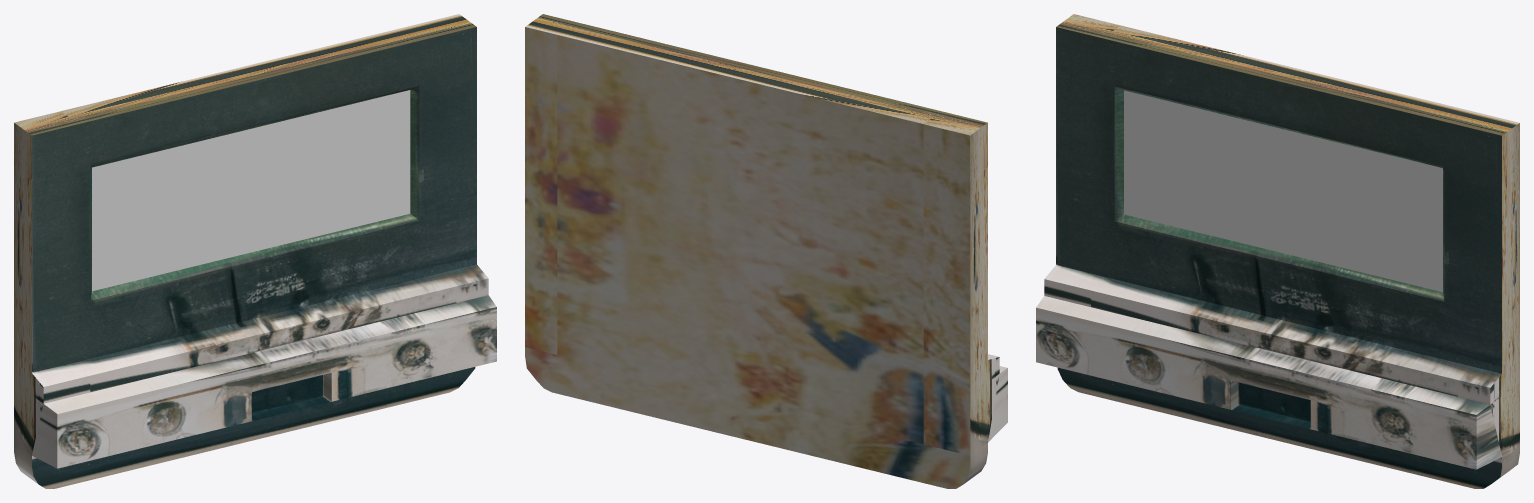
The model's file is SM_Scene_A_Furniture01.007.fbx.
The picture shows the model from 3 angles, left to right: view 1: azimuth 30°, elevation 25°; view 2: azimuth 150°, elevation 25°; view 3: azimuth 330°, elevation 25°; orthographic projection.
Parts seen in each view (by area): view 1: SM_Scene_A_Furniture01.007; view 2: SM_Scene_A_Furniture01.007; view 3: SM_Scene_A_Furniture01.007.
Part boxes in pixels (x1,y1,x2,y2): SM_Scene_A_Furniture01.007: [14, 14, 496, 488]; SM_Scene_A_Furniture01.007: [525, 14, 1007, 488]; SM_Scene_A_Furniture01.007: [1036, 14, 1519, 488].
Bounding box in the file's own units: 489 × 377 × 77.
